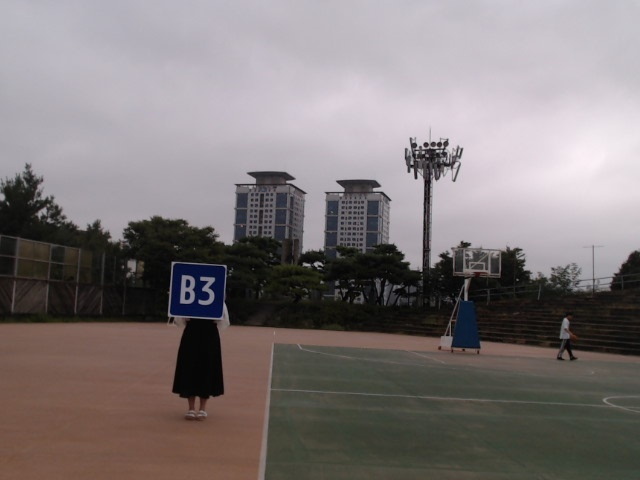delivery_b3: (170, 262, 226, 319)
